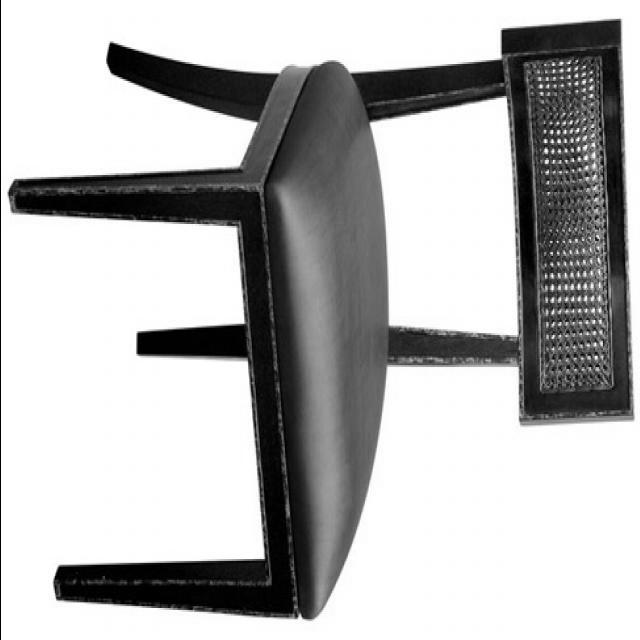chair: (8, 16, 635, 624)
